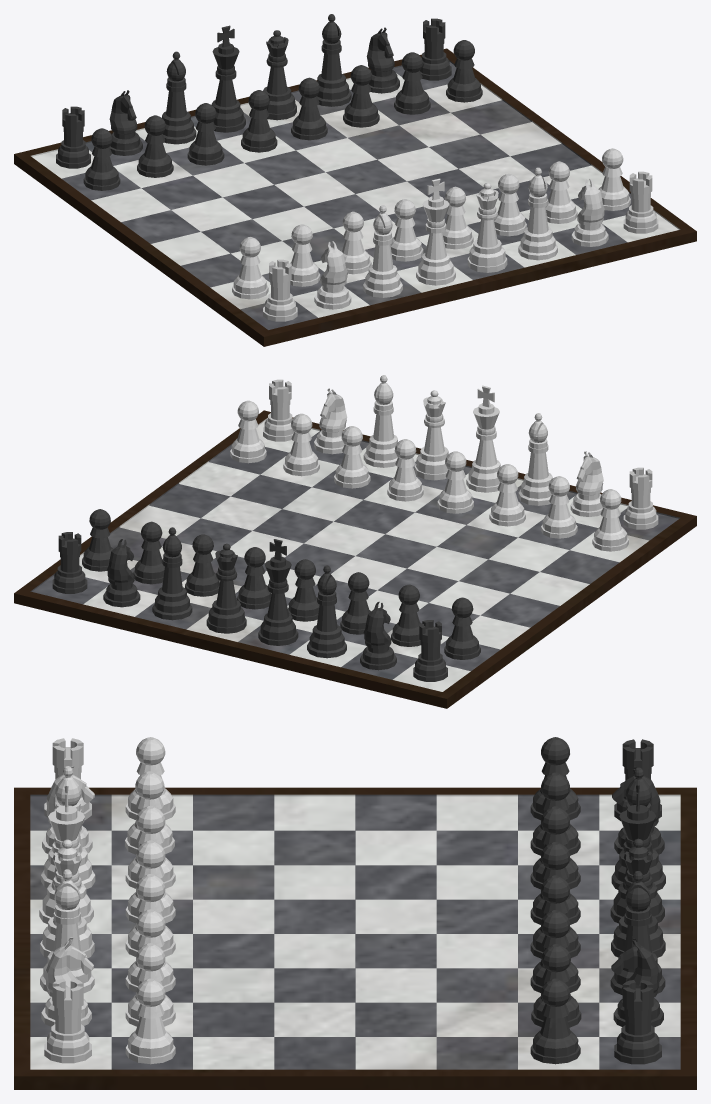
File: chess.glb
3 views of the same model, one above another, from view 1: azimuth 30°, elevation 25°; view 2: azimuth 150°, elevation 25°; view 3: azimuth 270°, elevation 25° (orthographic). The views are drawn at different scales.
Parts seen in each view (by area): view 1: Chess/Draughts Board, LightKing, DarkKing, LightQueen, LightBishop2, LightBishop1, DarkBishop1, DarkBishop2, DarkQueen, LightKnight1, LightKnight2, LightRook2 (+21 smaller); view 2: Chess/Draughts Board, DarkKing, LightKing, DarkQueen, DarkBishop2, DarkBishop1, LightQueen, LightBishop2, LightBishop1, DarkKnight1, DarkKnight2, LightRook1 (+21 smaller); view 3: Chess/Draughts Board, LightRook2, DarkRook1, LightPawn8, DarkPawn1, LightBishop2, DarkBishop1, DarkKing, LightKing, DarkQueen, DarkKnight1, LightKnight2 (+21 smaller).
Boxes of the visible parts, x1,y1,x2,y2 form: Chess/Draughts Board: (14, 48, 696, 346); LightKing: (416, 178, 455, 285); DarkKing: (211, 25, 245, 132); LightQueen: (467, 183, 507, 272); LightBishop2: (518, 167, 557, 260); LightBishop1: (363, 205, 402, 297); DarkBishop1: (317, 14, 351, 106); DarkBishop2: (162, 51, 196, 144); DarkQueen: (263, 30, 296, 120); LightKnight1: (314, 241, 351, 309); LightKnight2: (571, 178, 608, 246); LightRook2: (623, 171, 658, 233); Chess/Draughts Board: (14, 410, 696, 708); DarkKing: (258, 539, 298, 645); LightKing: (466, 385, 500, 492); DarkQueen: (206, 543, 246, 633); DarkBishop2: (307, 565, 346, 658); DarkBishop1: (152, 527, 192, 620); LightQueen: (414, 390, 448, 480); LightBishop2: (363, 375, 397, 467); LightBishop1: (518, 413, 552, 505); DarkKnight1: (103, 539, 140, 607); DarkKnight2: (360, 601, 396, 670); LightRook1: (623, 467, 658, 529); Chess/Draughts Board: (14, 787, 696, 1089); LightRook2: (44, 978, 91, 1063); DarkRook1: (614, 980, 661, 1064); LightPawn8: (125, 978, 175, 1064); DarkPawn1: (530, 978, 580, 1064); LightBishop2: (40, 869, 94, 993); DarkBishop1: (610, 871, 665, 995); DarkKing: (610, 780, 664, 923); LightKing: (39, 780, 93, 924); DarkQueen: (611, 838, 665, 957); DarkKnight1: (611, 938, 663, 1027); LightKnight2: (41, 937, 93, 1026).
Size of the model in its own units: 0.5685 by 0.1337 by 0.5685.
5 materials, 5 textured.
